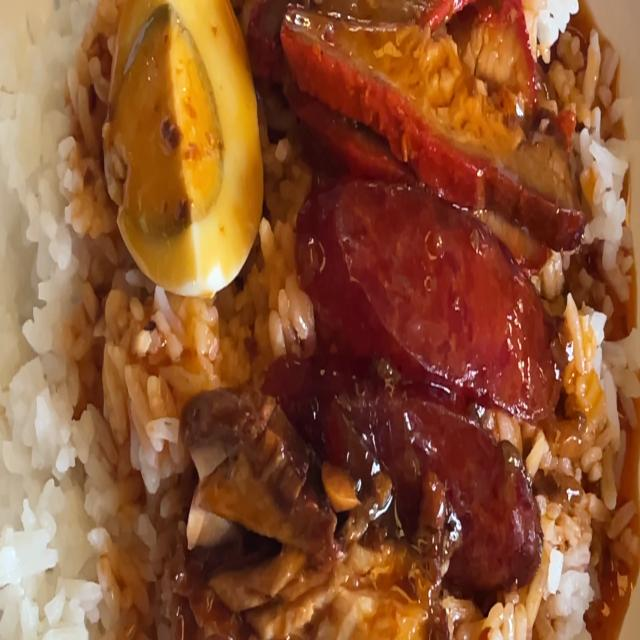01boiled_egg: (112, 0, 255, 276)
01chainese_sausage: (293, 175, 558, 570), (302, 189, 555, 393), (286, 355, 536, 555)
01crispy_pork: (225, 549, 455, 640)
01red_pork: (264, 0, 576, 232)
01red_pork_and_crispy_pork: (0, 0, 640, 640)
01rice: (0, 0, 117, 640), (99, 298, 177, 639)
